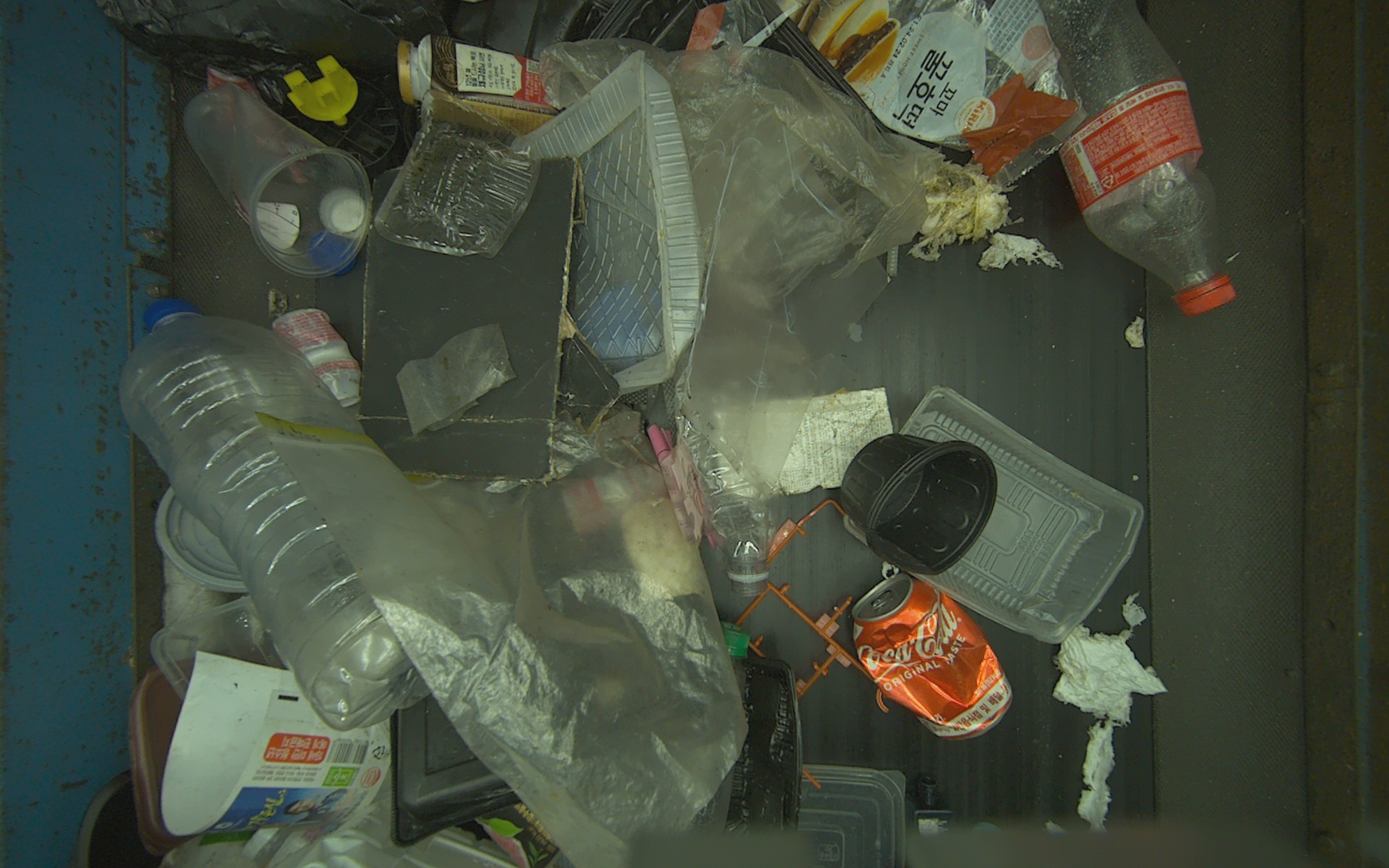PET: (1039, 0, 1237, 317)
PET-C: (183, 84, 373, 276), (375, 91, 542, 259)
PS-W: (398, 32, 566, 134), (272, 308, 361, 407)
